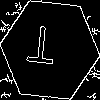T: (25, 25, 57, 74)
